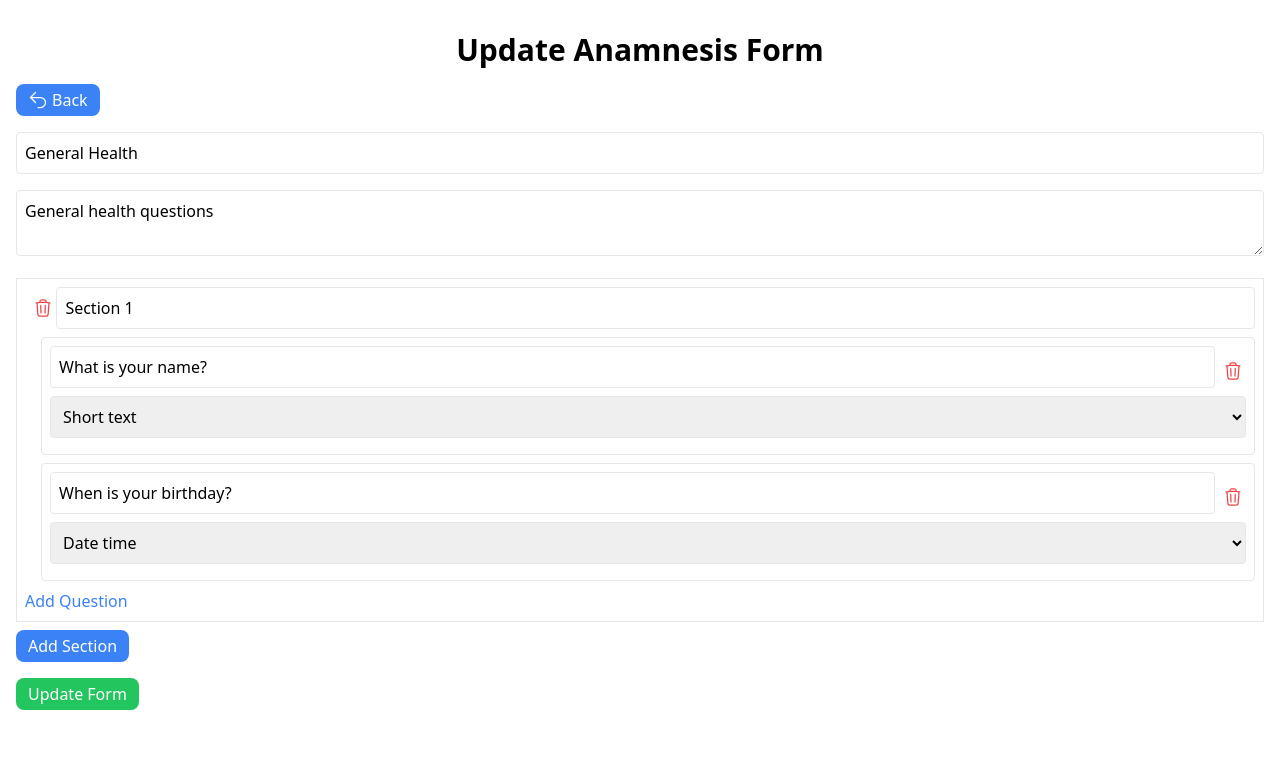
Test: UpdateAnamnesisForm › adds a new section
Click the button "Add Section" at coordinates (72, 646), box [16,630,129,662]
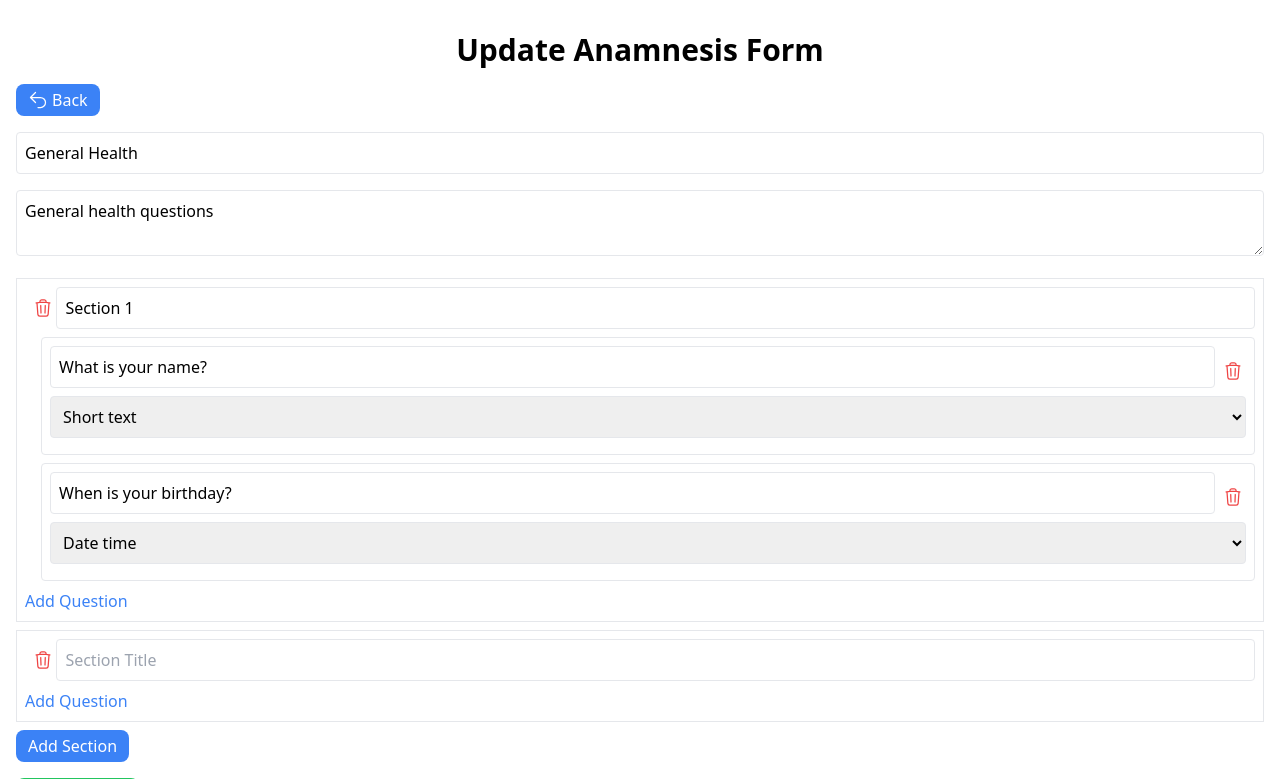
Result: the number of fields with placeholder "Section Title" is 2 at [56,287,1255,329]; [56,639,1255,681]
